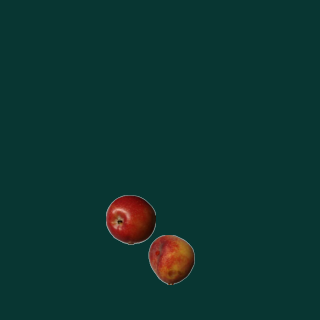Apple Braeburn: (105, 194, 155, 244)
Peach: (146, 234, 196, 284)
